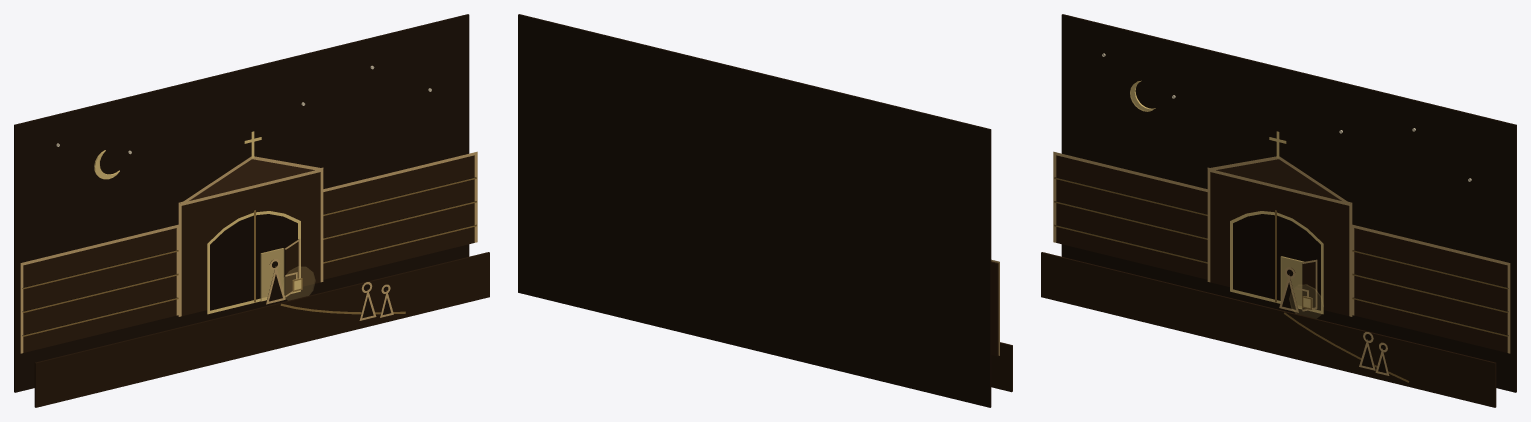
The model's file is loc-vorota-obiteli-noch.glb.
3 renders of one model, left to right at view 1: azimuth 30°, elevation 25°; view 2: azimuth 150°, elevation 25°; view 3: azimuth 330°, elevation 25°, orthographic. The views are drawn at different scales.
Visible parts, largest first — view 1: loc-vorota-obiteli-noch; view 2: loc-vorota-obiteli-noch; view 3: loc-vorota-obiteli-noch.
Part boxes in pixels (left/top/right/bottom): loc-vorota-obiteli-noch: left=14, top=14, right=489, bottom=407; loc-vorota-obiteli-noch: left=518, top=14, right=1012, bottom=407; loc-vorota-obiteli-noch: left=1041, top=14, right=1516, bottom=407.
Bounding box in the file's own units: 5.37 × 3 × 0.541.
